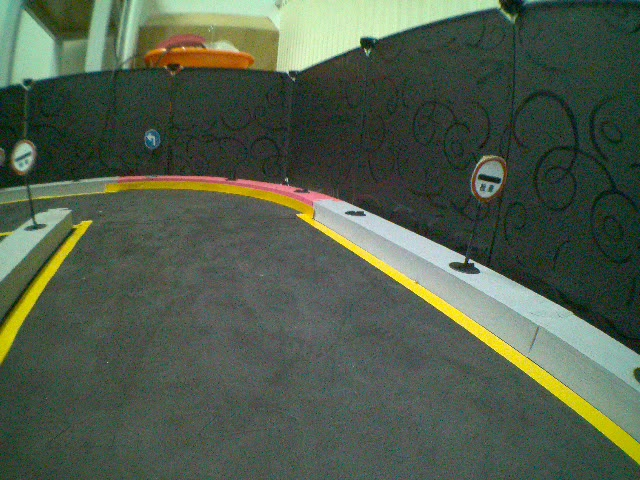Check: (469, 153, 508, 202), (8, 138, 39, 174)
turn: (142, 127, 162, 151)
